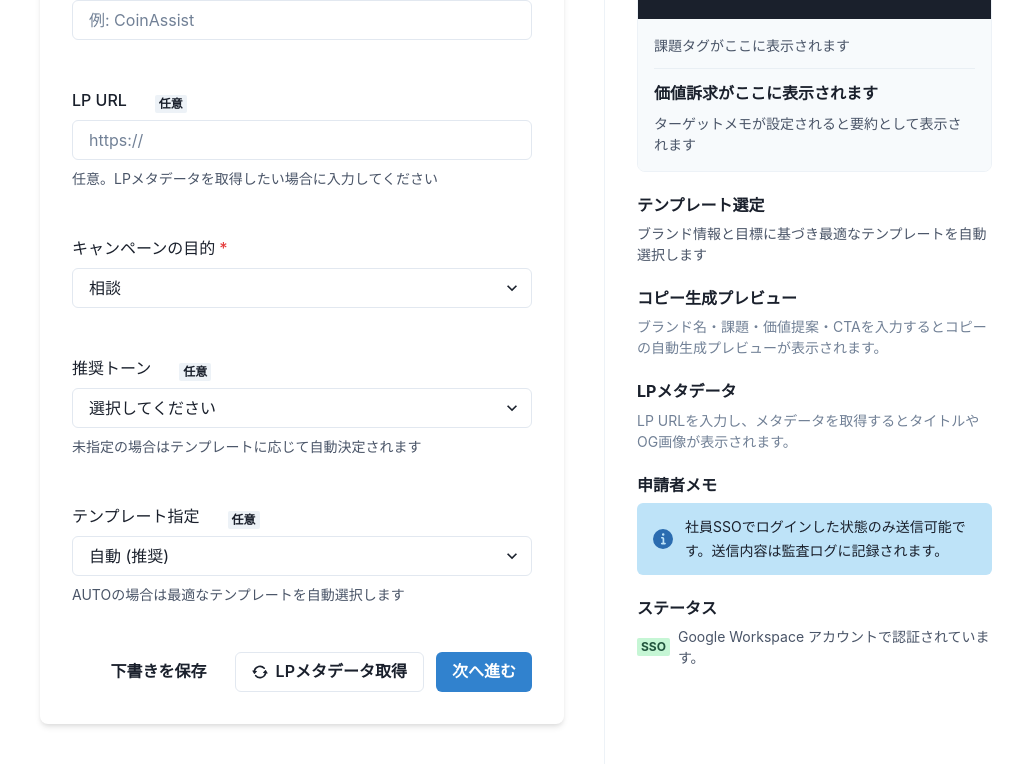
CampaignFormPage › blocks progression when required fields are empty
The width and height of the screenshot is (1024, 764).
(page scrolled)
Step 1. Click the button "次へ進む" → x=484, y=672, box left=436, top=652, right=532, bottom=692
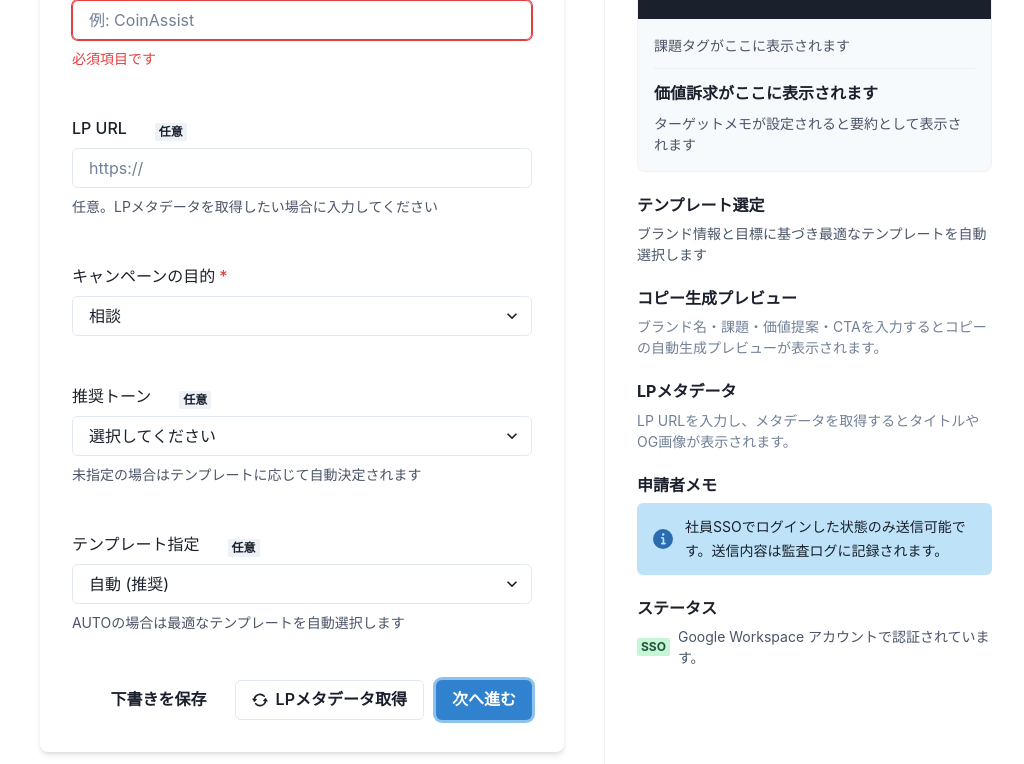
expect the text "必須項目です" is shown: met, box left=72, top=50, right=156, bottom=67
